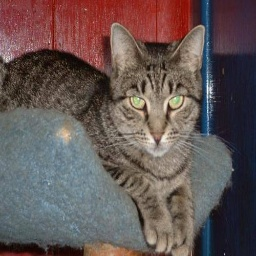cat: (2, 15, 211, 256)
